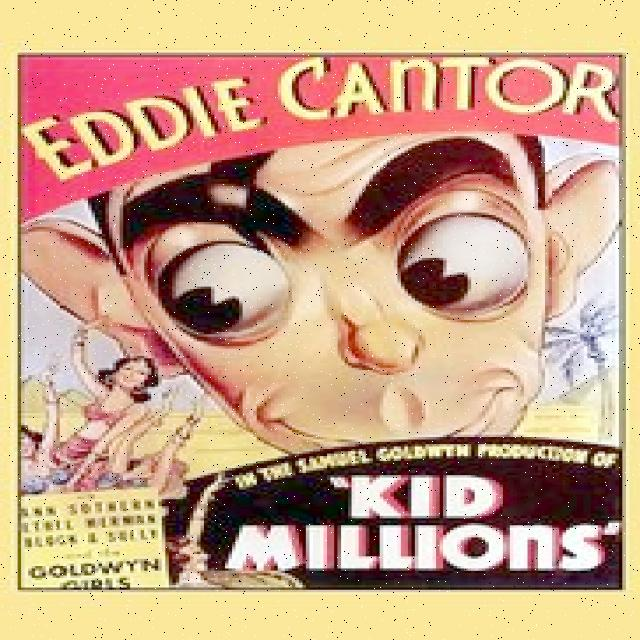movie-judul: (217, 476, 622, 576)
picture: (19, 166, 621, 443)
